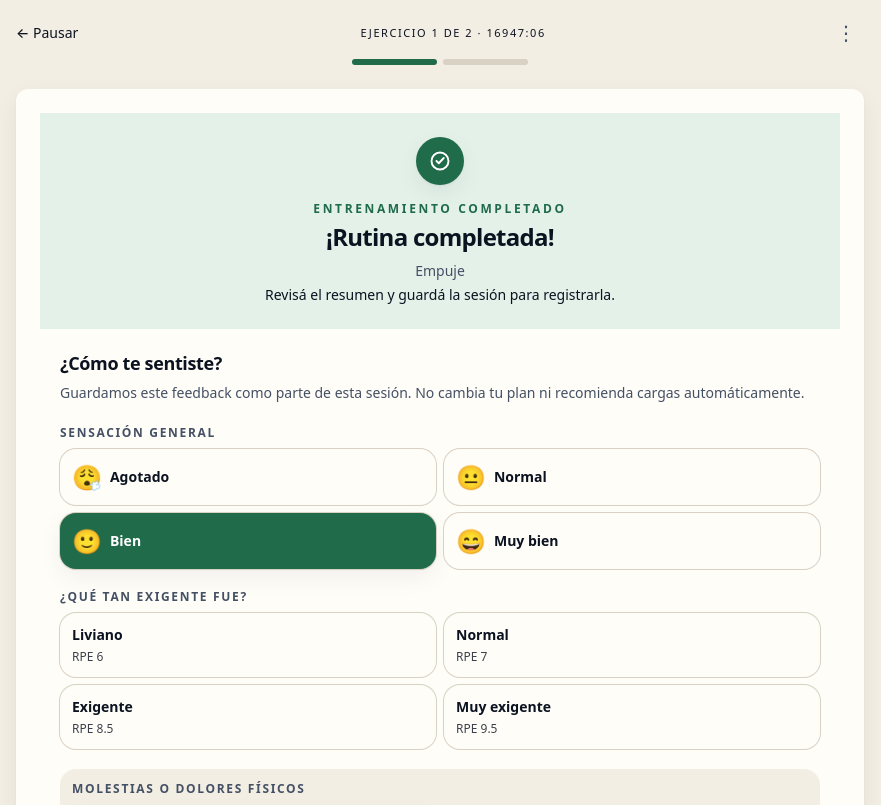
Scenario: GuidedSessionPlayerPage › does not celebrate when the close PATCH fails
This screenshot has width=881, height=805.
Click the button with test id "close-effort-exigente".
click(102, 706)  # box [60, 685, 436, 749]
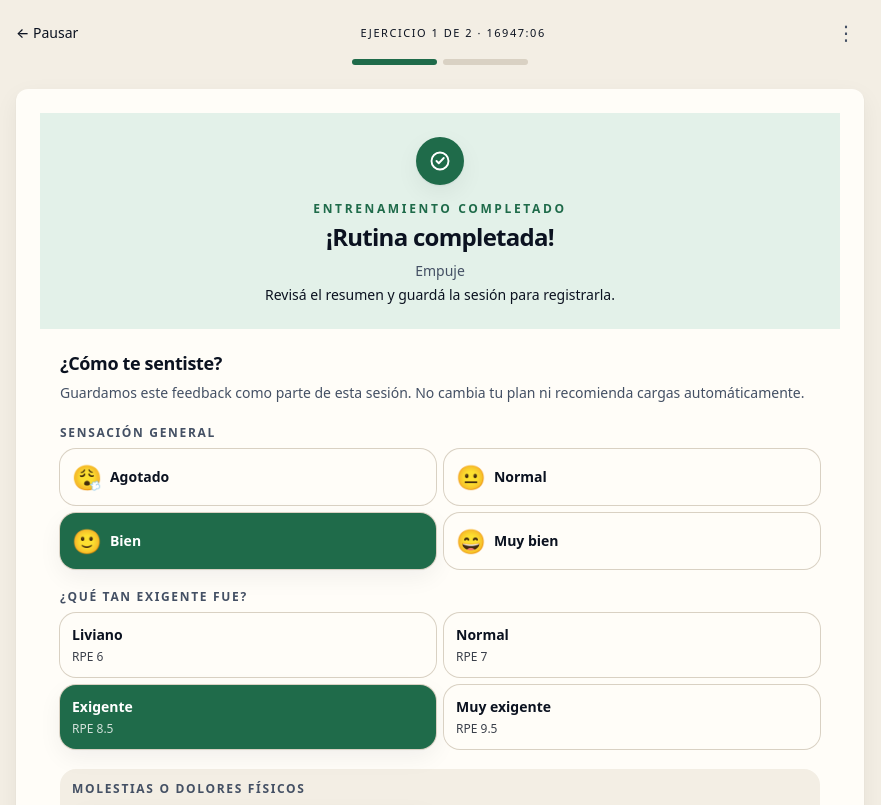
Click the button with test id "close-mood-good".
click(126, 540)  # box [60, 513, 436, 569]
(page scrolled)
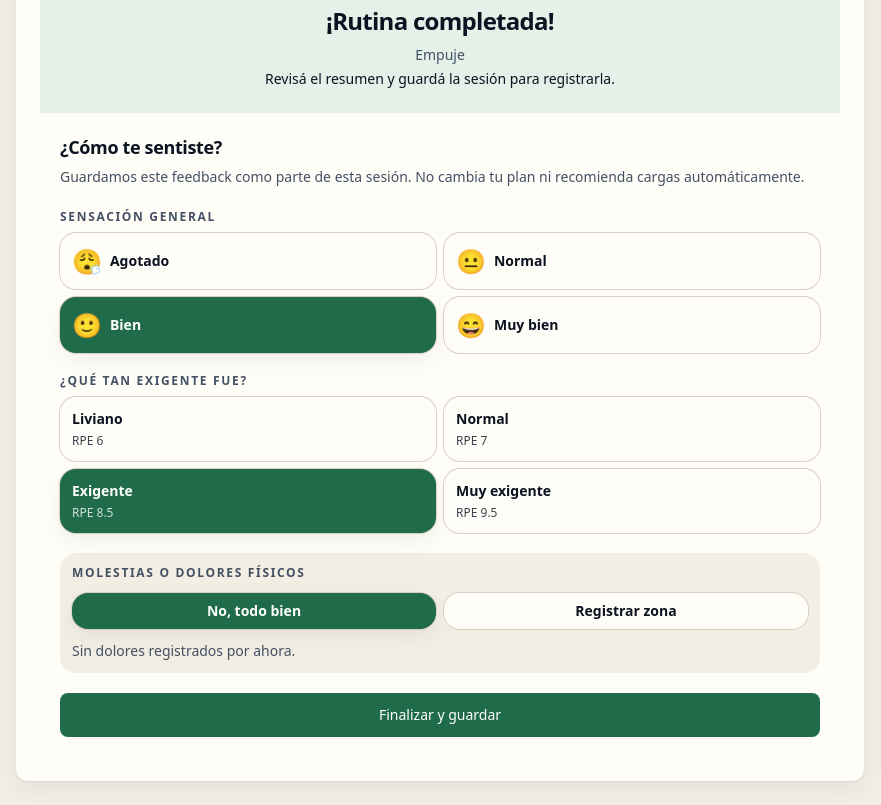
Click the button with test id "close-save".
click(440, 715)  # box [60, 693, 820, 737]
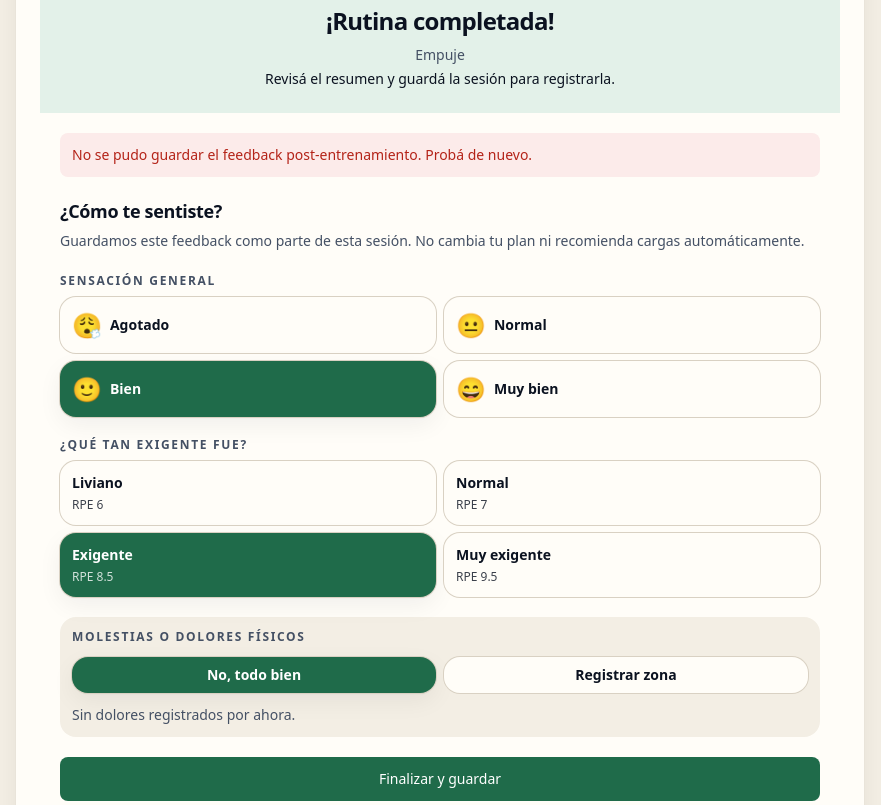
Result: the message "No se pudo guardar el feedback post-entrenamiento. Probá de nuevo." is shown at [60, 133, 820, 177]
